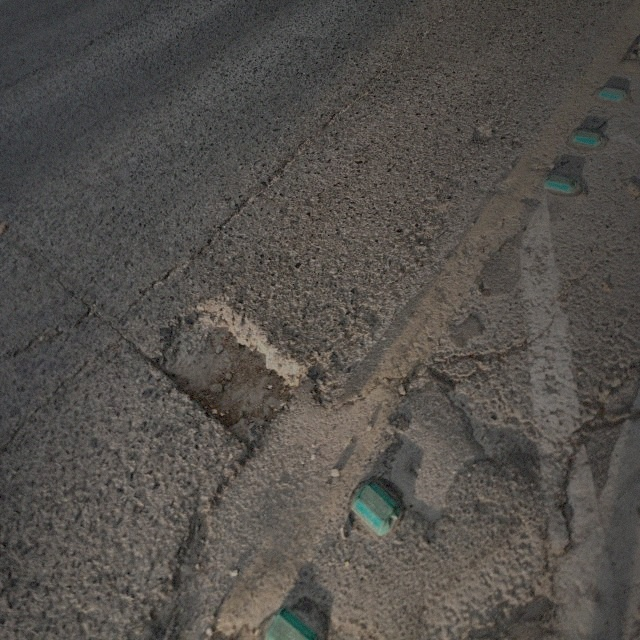pothole: (150, 290, 305, 453)
